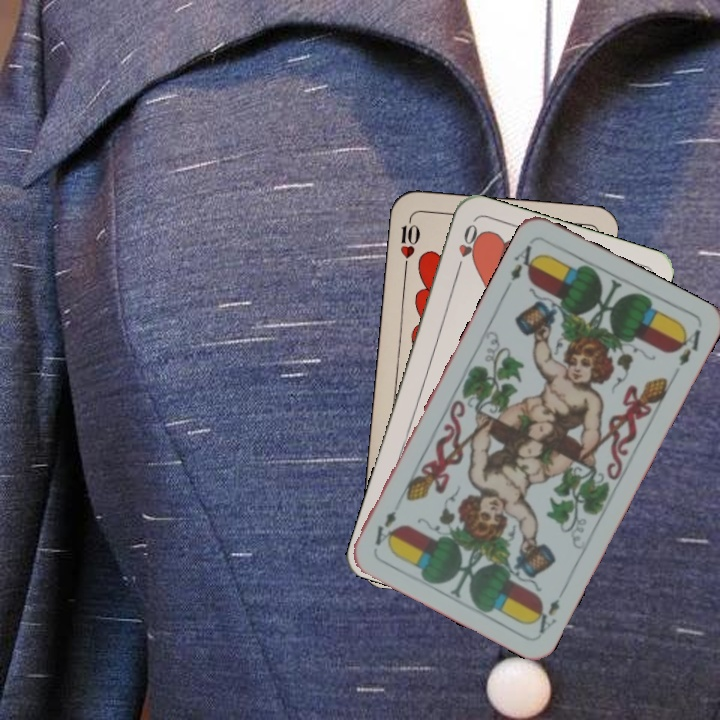EA: (528, 583, 569, 637), (506, 241, 542, 284)
H10: (396, 213, 423, 273)
HO: (452, 220, 483, 276)
